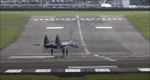maybay_muctieu: (37, 35, 77, 55)
